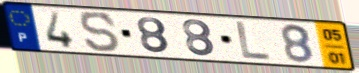4: (44, 9, 78, 51)
8: (279, 23, 315, 65), (135, 16, 172, 55), (181, 19, 216, 58)
L: (234, 19, 272, 62)
S: (78, 10, 123, 54)
